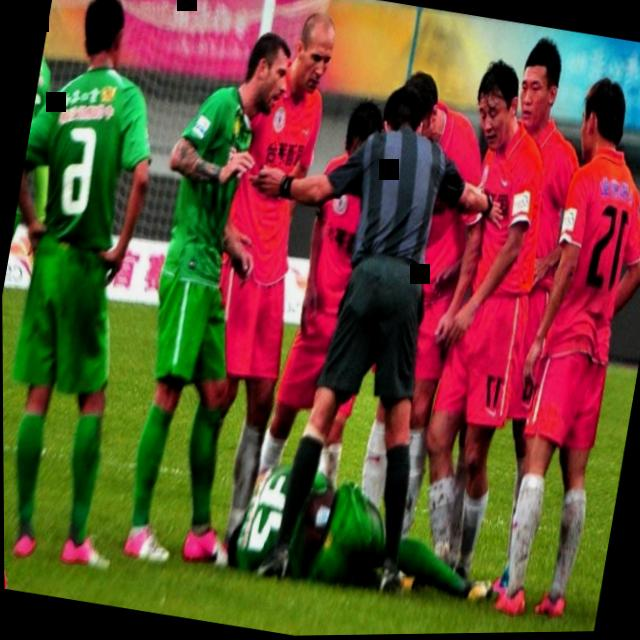Fall-Detected: (217, 434, 507, 625)
